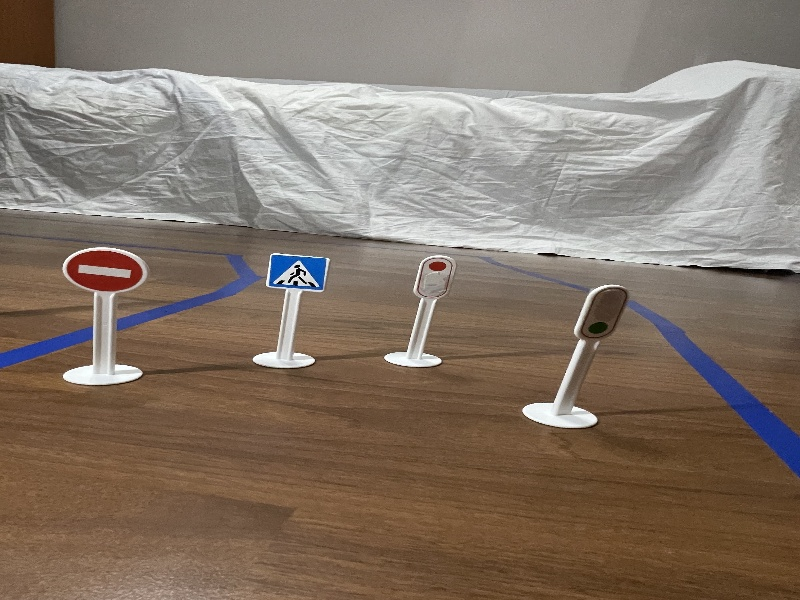interzis: (57, 237, 153, 300)
semafor_rosu: (411, 250, 457, 311)
semafor_verde: (575, 278, 635, 353)
trecere_pietoni: (268, 245, 338, 301)
